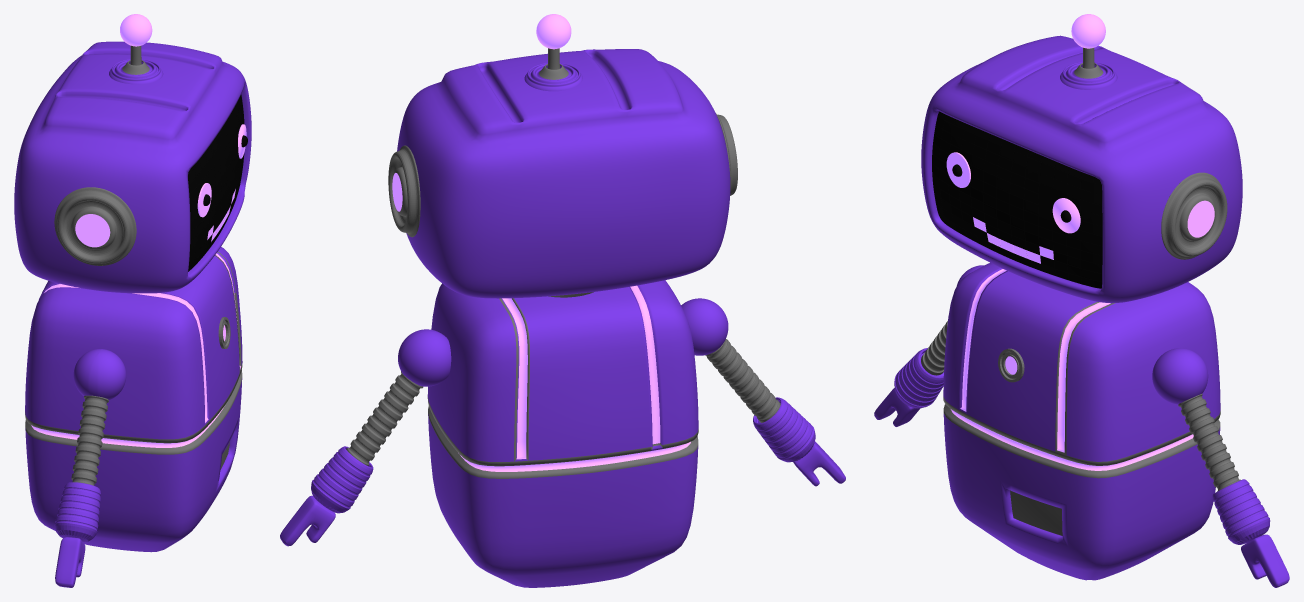
The model's file is Robotv07.glb.
The picture shows the model from 3 angles, left to right: view 1: azimuth 30°, elevation 25°; view 2: azimuth 150°, elevation 25°; view 3: azimuth 270°, elevation 25°; orthographic projection. The views are drawn at different scales.
Visible parts, largest first — view 1: Body, Head, Ears, Face, ForeArms, Arm, Shoulder, Rod, Hand, Bulb, Core, LeftEye; view 2: Body, Head, Arm, ForeArms, Shoulder, Ears, Hand, Rod, Bulb; view 3: Body, Head, Face, Ears, ForeArms, Arm, Shoulder, Hand, Rod, Plate, Bulb, Core (+2 smaller).
Boxes of the visible parts, <box> form: Body: <box>25,247,242,552</box>; Head: <box>14,41,251,293</box>; Ears: <box>54,187,136,265</box>; Face: <box>188,94,244,271</box>; ForeArms: <box>54,482,100,542</box>; Arm: <box>71,395,108,485</box>; Shoulder: <box>73,349,126,399</box>; Rod: <box>109,45,163,84</box>; Hand: <box>55,537,85,587</box>; Bulb: <box>120,14,152,46</box>; Core: <box>218,317,230,348</box>; LeftEye: <box>197,183,211,217</box>; Body: <box>427,280,698,587</box>; Head: <box>397,49,730,298</box>; Arm: <box>346,339,780,465</box>; ForeArms: <box>311,397,815,513</box>; Shoulder: <box>398,298,728,386</box>; Ears: <box>388,113,737,237</box>; Hand: <box>280,441,845,546</box>; Rod: <box>524,48,582,91</box>; Bulb: <box>536,14,571,49</box>; Body: <box>943,262,1220,580</box>; Head: <box>921,35,1242,303</box>; Face: <box>932,111,1102,288</box>; Ears: <box>1161,172,1227,259</box>; ForeArms: <box>894,348,1270,544</box>; Arm: <box>921,321,1240,491</box>; Shoulder: <box>956,265,1208,404</box>; Hand: <box>874,388,1289,587</box>; Rod: <box>1060,47,1117,89</box>; Plate: <box>1010,490,1062,535</box>; Bulb: <box>1071,14,1105,48</box>; Core: <box>998,348,1024,382</box>.
Bounding box in the file's own units: 2.45 × 3.61 × 2.45.
